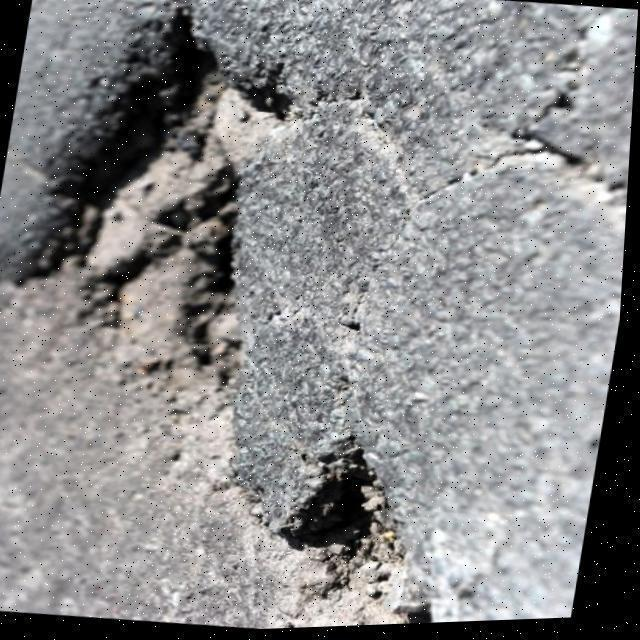Pothole: (0, 3, 309, 508), (268, 436, 419, 604)
